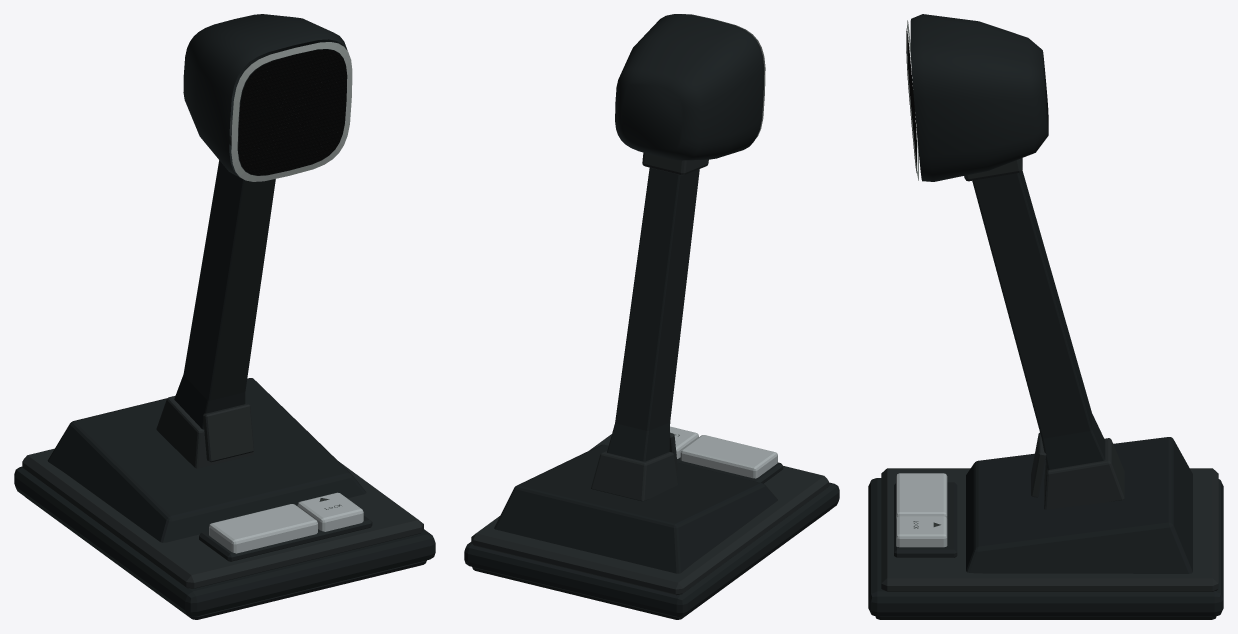
File: desk_microphone.glb
The picture shows the model from 3 angles, left to right: view 1: azimuth 30°, elevation 25°; view 2: azimuth 150°, elevation 25°; view 3: azimuth 270°, elevation 25°; orthographic projection. The views are drawn at different scales.
Parts seen in each view (by area): view 1: 04 Sloping die-cast pedestal, 09 Tapered microphone stem, 02 Lower stepped base, 03 Base upper rim, 13 Perforated microphone grille, 11 Rounded tapered head shell, 06 Large push-to-talk button, 12 Satin grille surround, 14 Badge black surround, 08 Stem heel, 07 Lock push button, 05 Recess beneath PTT buttons (+1 smaller); view 2: 04 Sloping die-cast pedestal, 11 Rounded tapered head shell, 09 Tapered microphone stem, 03 Base upper rim, 02 Lower stepped base, 08 Stem heel, 06 Large push-to-talk button, 01 Rubber bottom pad, 10 Head mounting collar, 05 Recess beneath PTT buttons; view 3: 04 Sloping die-cast pedestal, 11 Rounded tapered head shell, 09 Tapered microphone stem, 03 Base upper rim, 02 Lower stepped base, 08 Stem heel, 06 Large push-to-talk button, 07 Lock push button, 05 Recess beneath PTT buttons, 01 Rubber bottom pad, 14 Badge black surround, 13 Perforated microphone grille (+1 smaller).
Boxes of the visible parts, <box> form: 04 Sloping die-cast pedestal: <box>47,378,366,542</box>; 09 Tapered microphone stem: <box>174,160,275,429</box>; 02 Lower stepped base: <box>14,466,435,616</box>; 03 Base upper rim: <box>22,448,423,588</box>; 13 Perforated microphone grille: <box>238,49,346,175</box>; 11 Rounded tapered head shell: <box>183,14,347,177</box>; 06 Large push-to-talk button: <box>209,504,317,553</box>; 12 Satin grille surround: <box>231,42,352,181</box>; 14 Badge black surround: <box>203,403,254,462</box>; 08 Stem heel: <box>156,395,254,468</box>; 07 Lock push button: <box>297,492,363,531</box>; 05 Recess beneath PTT buttons: <box>199,515,372,561</box>; 04 Sloping die-cast pedestal: <box>494,444,777,573</box>; 11 Rounded tapered head shell: <box>615,14,764,160</box>; 09 Tapered microphone stem: <box>607,167,699,461</box>; 03 Base upper rim: <box>471,434,828,595</box>; 02 Lower stepped base: <box>464,482,839,616</box>; 08 Stem heel: <box>591,451,678,501</box>; 06 Large push-to-talk button: <box>680,435,777,478</box>; 01 Rubber bottom pad: <box>472,510,829,619</box>; 10 Head mounting collar: <box>642,152,708,175</box>; 05 Recess beneath PTT buttons: <box>677,457,783,483</box>; 04 Sloping die-cast pedestal: <box>966,437,1192,573</box>; 11 Rounded tapered head shell: <box>910,14,1048,181</box>; 09 Tapered microphone stem: <box>972,170,1105,469</box>; 03 Base upper rim: <box>881,468,1218,591</box>; 02 Lower stepped base: <box>868,478,1223,616</box>; 08 Stem heel: <box>1044,438,1124,509</box>; 06 Large push-to-talk button: <box>896,473,947,518</box>; 07 Lock push button: <box>896,516,947,547</box>; 05 Recess beneath PTT buttons: <box>894,482,957,557</box>; 01 Rubber bottom pad: <box>875,616,1216,619</box>; 14 Badge black surround: <box>1031,432,1046,497</box>; 13 Perforated microphone grille: <box>906,28,916,172</box>.
Size of the model in its own units: 0.145 by 0.2994 by 0.18.
Materials: 8 (1 with a texture image).
